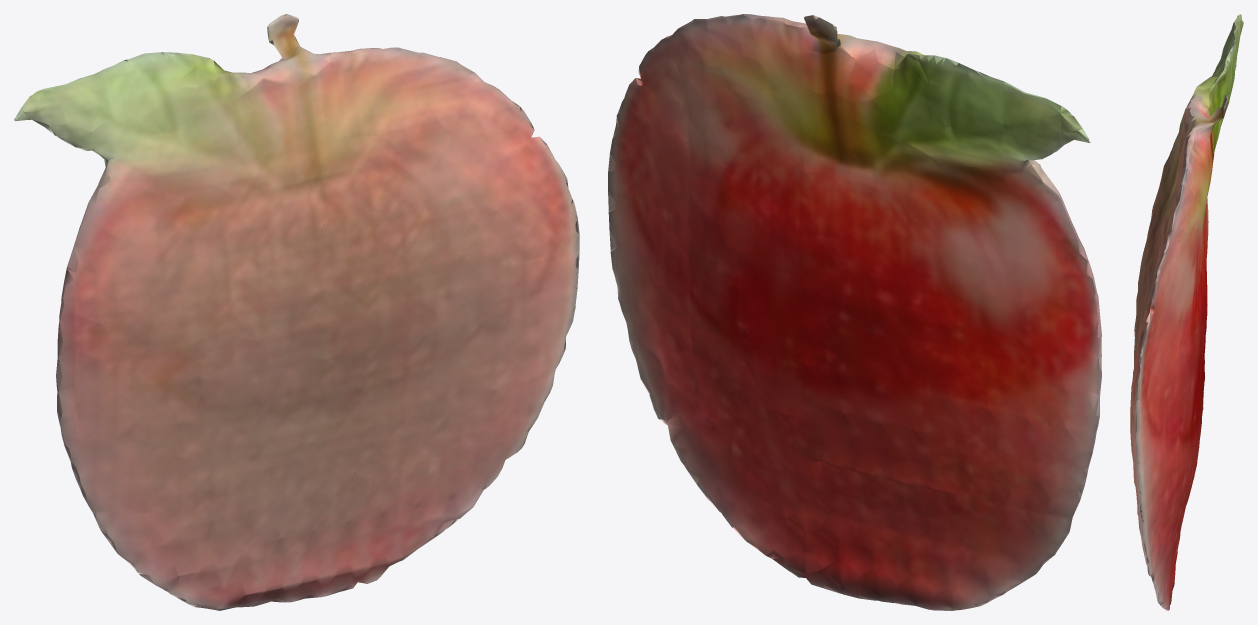
The model's file is apple.glb.
3 views of the same model, side by side, from view 1: azimuth 30°, elevation 25°; view 2: azimuth 150°, elevation 25°; view 3: azimuth 270°, elevation 25° (orthographic). The views are drawn at different scales.
Parts seen in each view (by area): view 1: world; view 2: world; view 3: world.
Part boxes in pixels (x1,y1,x2,y2): world: (14,14,579,610); world: (608,14,1101,610); world: (1130,14,1243,610).
Size of the model in its own units: 0.6423 by 0.6805 by 0.1417.
1 material, 1 textured.
